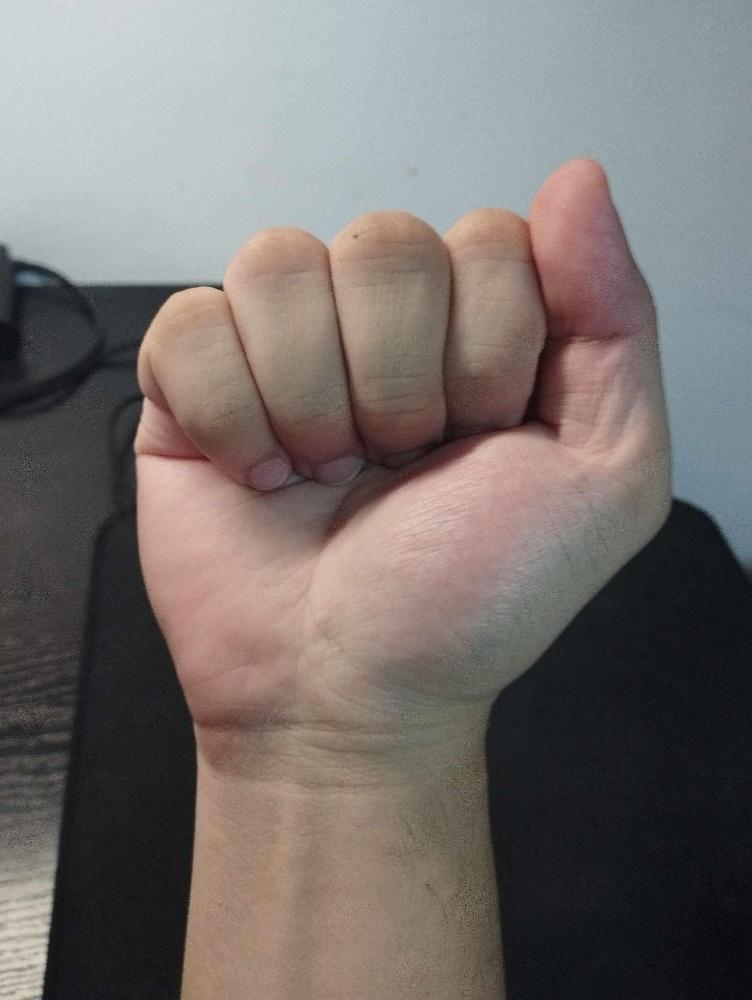a: (131, 152, 679, 748)
